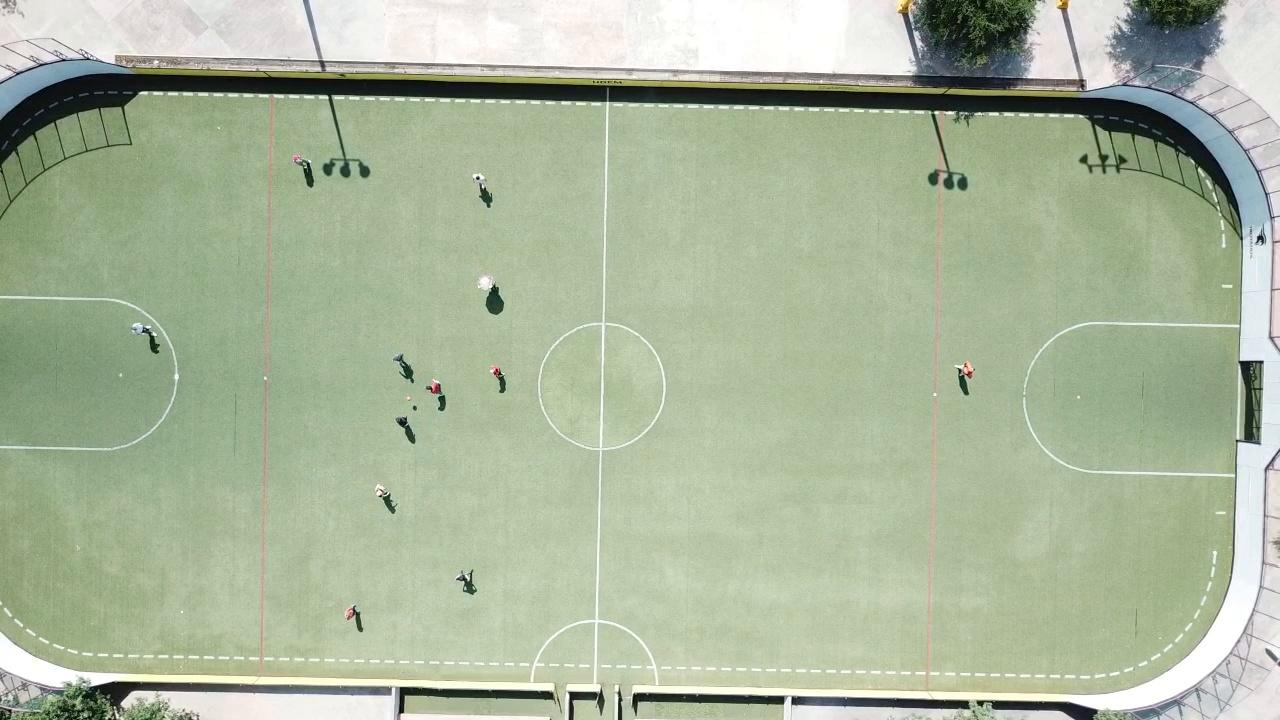ball: (406, 396, 412, 401)
player: (954, 361, 975, 385), (130, 322, 158, 338), (455, 569, 473, 591), (478, 274, 497, 292), (374, 483, 389, 499), (427, 378, 441, 395), (472, 172, 486, 188), (489, 365, 503, 380), (293, 156, 309, 169), (347, 606, 360, 621), (392, 352, 405, 362), (398, 417, 409, 426)
